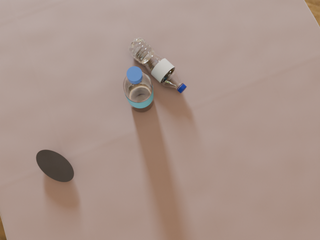bottle: (128, 37, 187, 93), (123, 67, 154, 112)
mouse: (36, 150, 74, 182)
